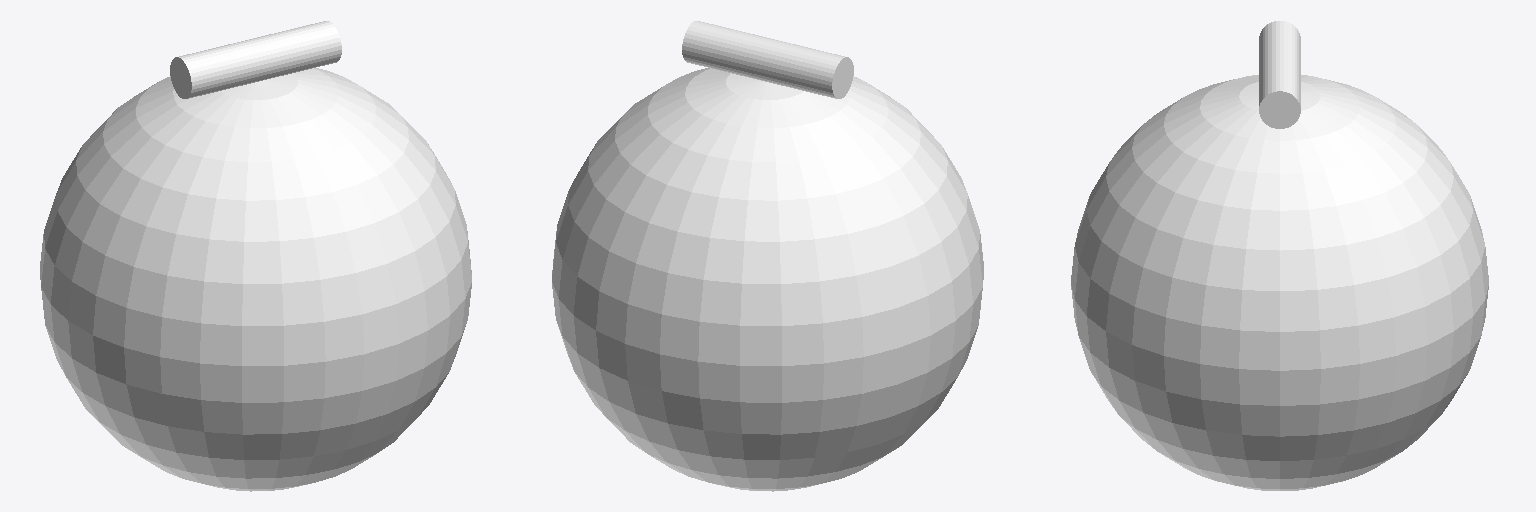
The robot description file, URDF, robot "Robot":
?<?xml version="1.0" encoding="utf-8"?>
<robot name="Robot">
  <material name="Default-Material">
    <color rgba="1 1 1 1" />
  </material>
  <link name="base_link">
    <inertial>
      <origin rpy="0 0 0" xyz="0 0 0" />
      <mass value="1" />
      <inertia ixx="0.100000001490116" ixy="0" ixz="0" iyy="0.100000001490116" iyz="0" izz="0.100000001490116" />
    </inertial>
    <visual>
      <geometry>
        <sphere radius="0.5" />
      </geometry>
      <material name="Default-Material" />
    </visual>
    <collision>
      <geometry>
        <sphere radius="0.5" />
      </geometry>
    </collision>
  </link>
  <link name="link">
    <inertial>
      <origin rpy="0 0 0" xyz="0 0 0.547" />
      <mass value="1" />
      <inertia ixx="0.00124087929725647" ixy="2.2492041743858E-18" ixz="4.57778082108007E-09" iyy="0.0139537760987878" iyz="6.4772462567142E-12" izz="0.013953790999949" />
    </inertial>
    <visual>
      <origin rpy="0 1.570796 0" xyz="0 0 0.547" />
      <geometry>
        <cylinder length="0.4" radius="0.05" />
      </geometry>
      <material name="Default-Material" />
    </visual>
    <collision>
      <origin rpy="0 1.570796 0" xyz="0 0 0.547" />
      <geometry>
        <cylinder length="0.4" radius="0.05" />
      </geometry>
    </collision>
  </link>
  <joint name="base_link_link_joint" type="revolute">
    <parent link="base_link" />
    <child link="link" />
    <axis xyz="0 0 1" />
    <limit lower="0" upper="0" effort="1000" velocity="1000" />
  </joint>
</robot>

--- Render facts (derived) ---
3 views of the same robot in one strip: view 1: azimuth 30°, elevation 25°; view 2: azimuth 150°, elevation 25°; view 3: azimuth 270°, elevation 25° (orthographic).
Robot: Robot — 2 links, 1 joints (1 revolute); root link base_link; default pose: all joints at 0.
Visible links, largest first — view 1: base_link, link; view 2: base_link, link; view 3: base_link, link.
Boxes of the visible links, x1,y1,x2,y2 form: base_link: [40, 68, 471, 491]; link: [170, 21, 341, 98]; base_link: [552, 68, 983, 491]; link: [682, 21, 853, 98]; base_link: [1071, 75, 1488, 490]; link: [1259, 21, 1300, 128].
Size in the robot's own frame: 1 by 1 by 1.1 metres.
Geometry: primitives only (box / cylinder / sphere), no mesh files.